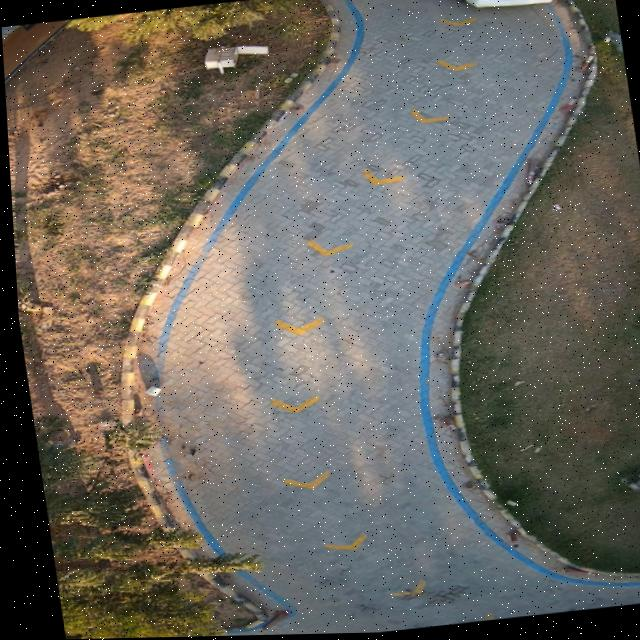car: (456, 0, 554, 10)
